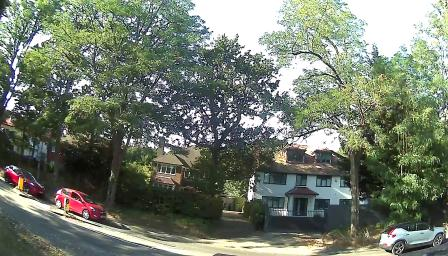Cars: (376, 221, 446, 251), (57, 187, 106, 223), (8, 158, 42, 198)
